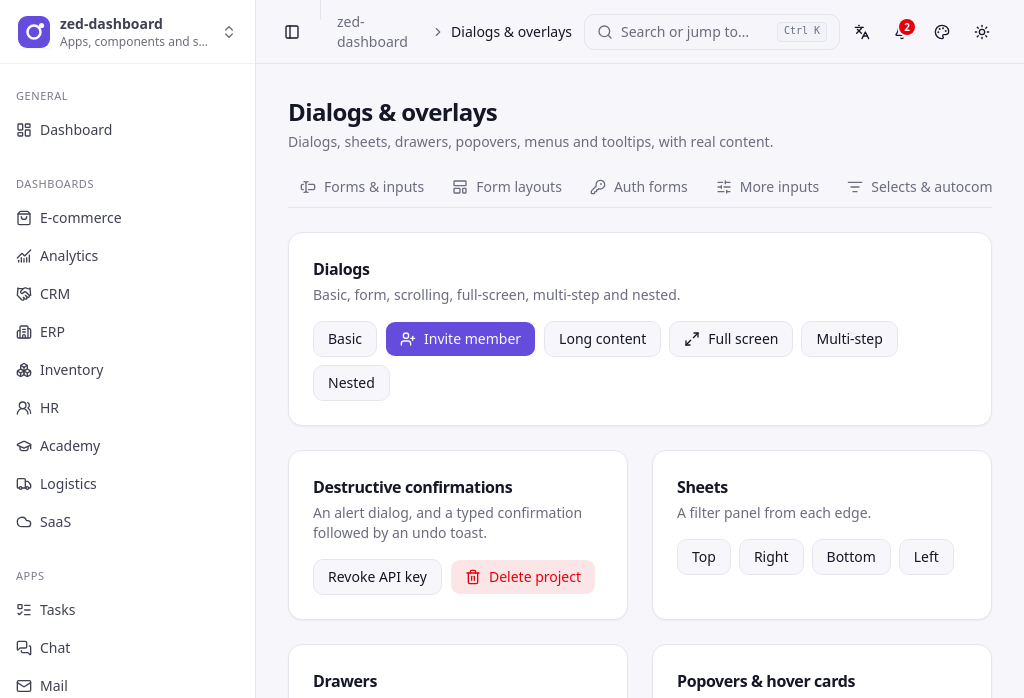
ui-forms showcase › renders the overlays page and opens a dialog
The image size is (1024, 698).
What coordinates should you click on to do the following:
click the button "Basic"
I would click on:
 (345, 339)
Its box is top-left (313, 321), bottom-right (377, 357).
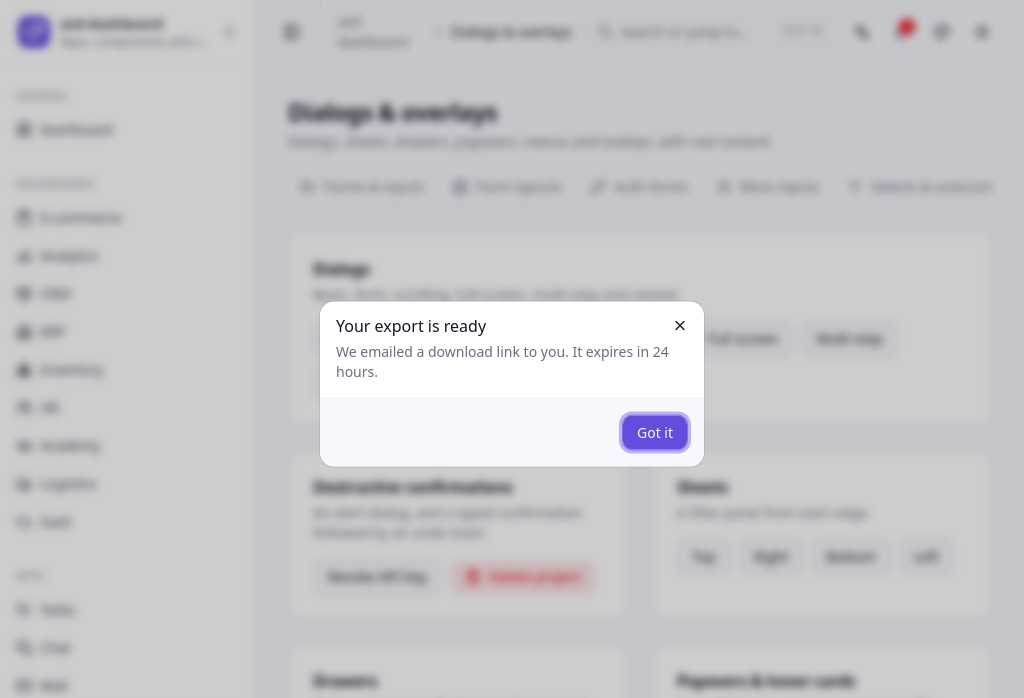
Expected: the dialog shows "Your export is ready", top-left (336, 314), bottom-right (486, 336)
